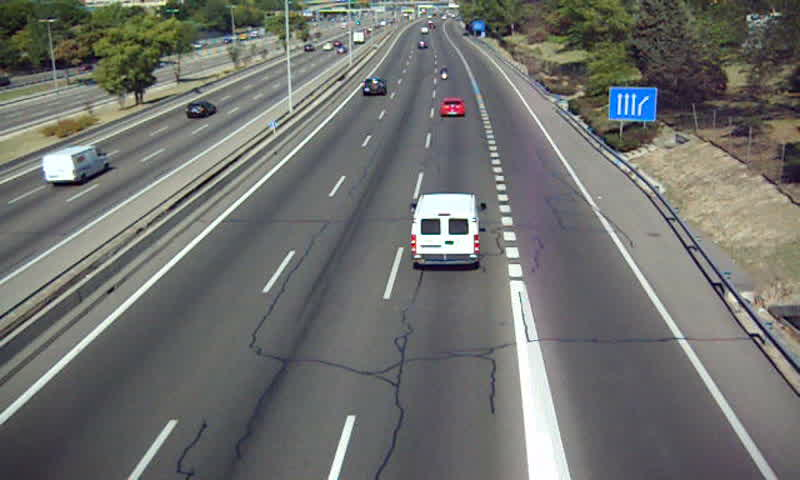car: (361, 77, 387, 97), (439, 99, 466, 117)
motorcycle: (438, 65, 450, 79)
van: (411, 194, 481, 266)
